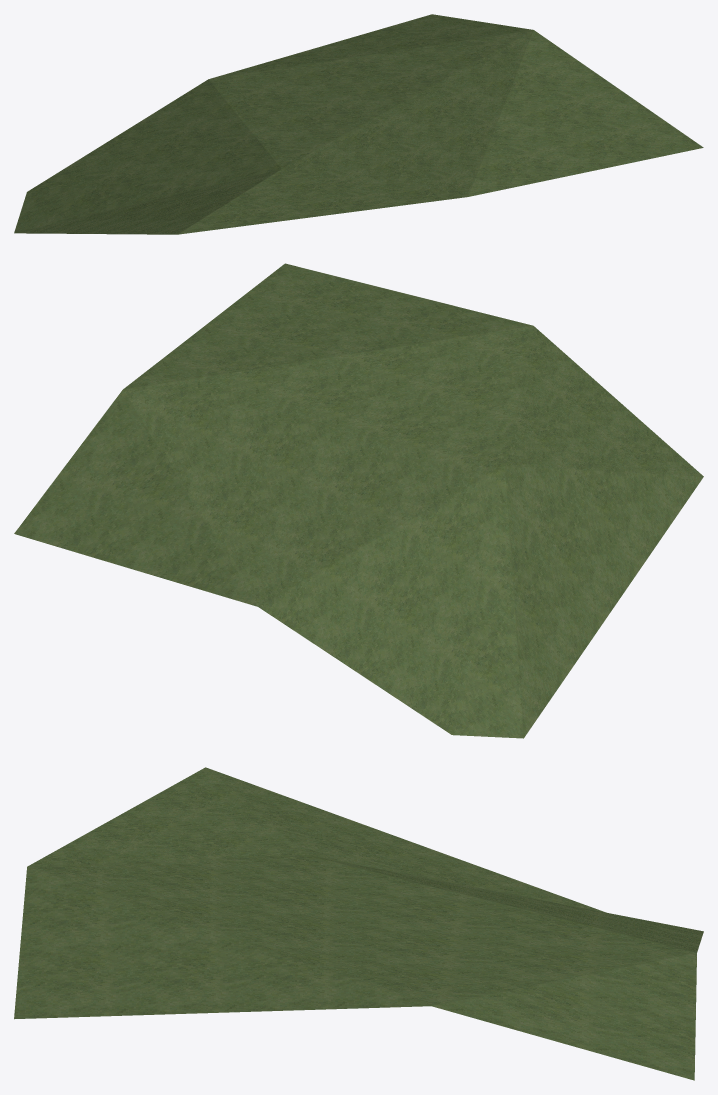
File: LODa_carisle_mid_landmass_02_12.fbx
3 renders of one model, top to bottom at view 1: azimuth 30°, elevation 25°; view 2: azimuth 150°, elevation 25°; view 3: azimuth 270°, elevation 25°, orthographic. The views are drawn at different scales.
Parts seen in each view (by area): view 1: LODa_carisle_mid_landmass_02_12; view 2: LODa_carisle_mid_landmass_02_12; view 3: LODa_carisle_mid_landmass_02_12.
Boxes of the visible parts, x1,y1,x2,y2 form: LODa_carisle_mid_landmass_02_12: (14,14,703,234); LODa_carisle_mid_landmass_02_12: (14,263,703,738); LODa_carisle_mid_landmass_02_12: (14,767,703,1080).
Bounding box in the file's own units: 23.01 × 23.08 × 7.39.
Materials: 1 (1 with a texture image).
